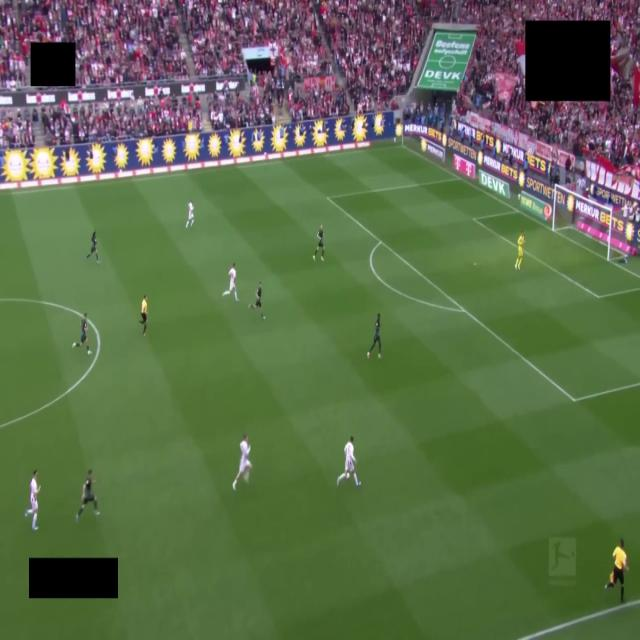ball: (346, 472, 350, 479)
player: (337, 436, 360, 487), (76, 470, 99, 521), (233, 435, 251, 490), (25, 470, 40, 531), (72, 313, 91, 355), (367, 313, 381, 359), (223, 263, 238, 301), (249, 281, 264, 319), (86, 232, 99, 263), (313, 225, 324, 261), (515, 232, 525, 270), (186, 200, 194, 227)
referee: (139, 295, 147, 335)
